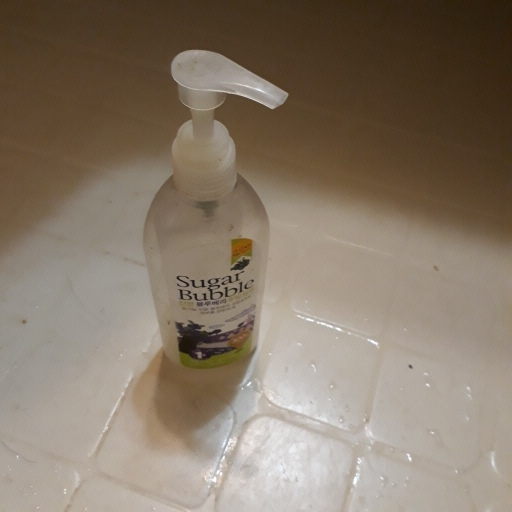Plastic_3: (138, 49, 297, 370)
